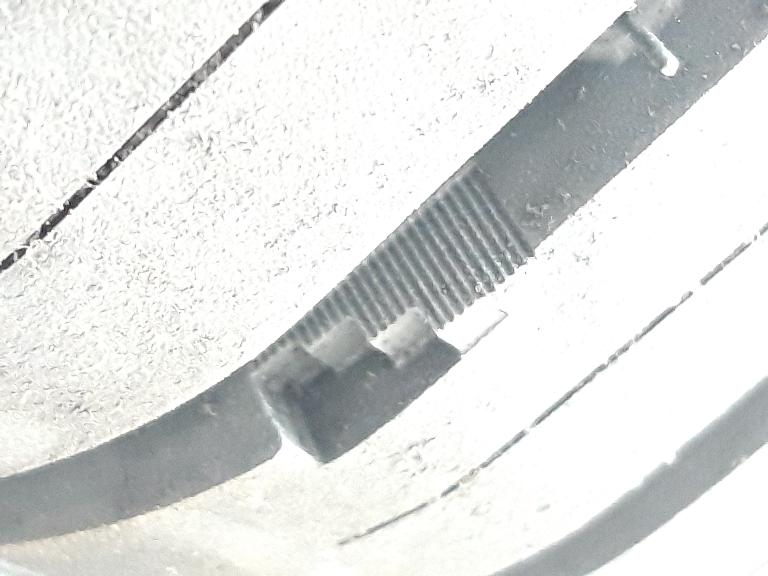temoin:75: (236, 228, 513, 482)
